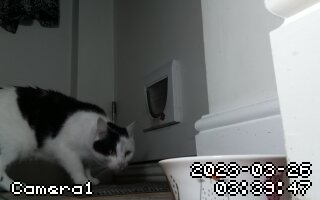bad: (2, 78, 137, 193)
